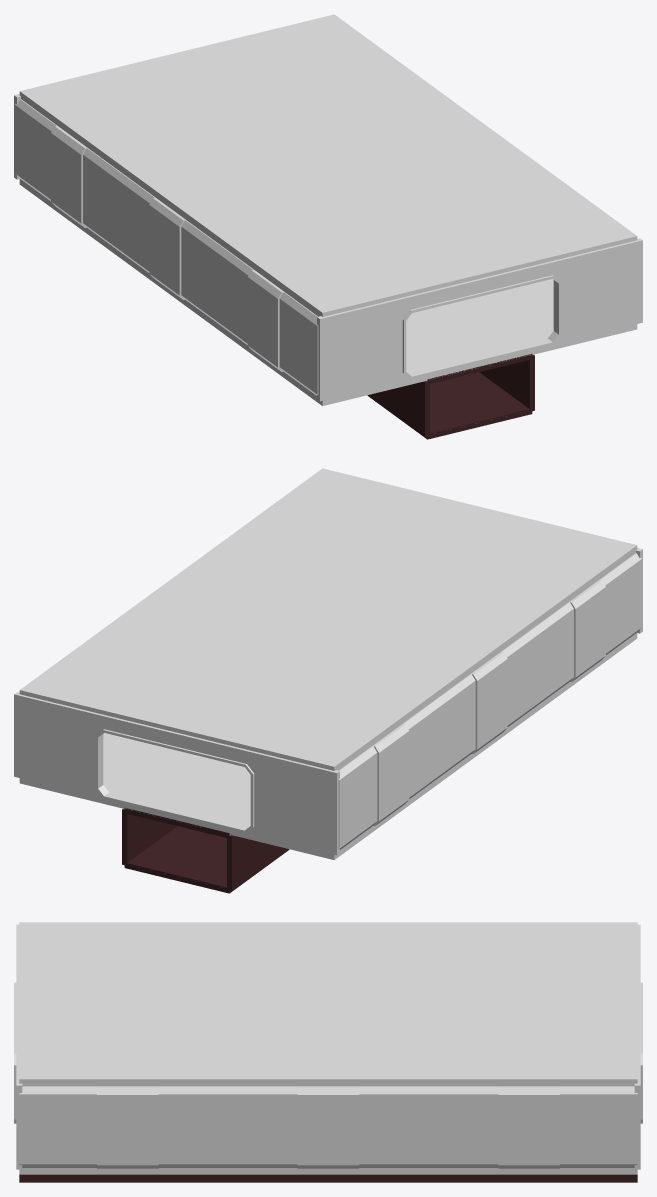
File: NEAP.fbx
3 views of the same model, one above another, from view 1: azimuth 30°, elevation 25°; view 2: azimuth 150°, elevation 25°; view 3: azimuth 270°, elevation 25° (orthographic). The views are drawn at different scales.
Visible parts, largest first — view 1: Torus.002; view 2: Torus.002; view 3: Torus.002.
Boxes of the visible parts, left/top/right/bottom form: Torus.002: left=14, top=14, right=642, bottom=439; Torus.002: left=14, top=468, right=642, bottom=893; Torus.002: left=14, top=922, right=642, bottom=1182.
Bounding box in the file's own units: 1250 × 555 × 2034.
